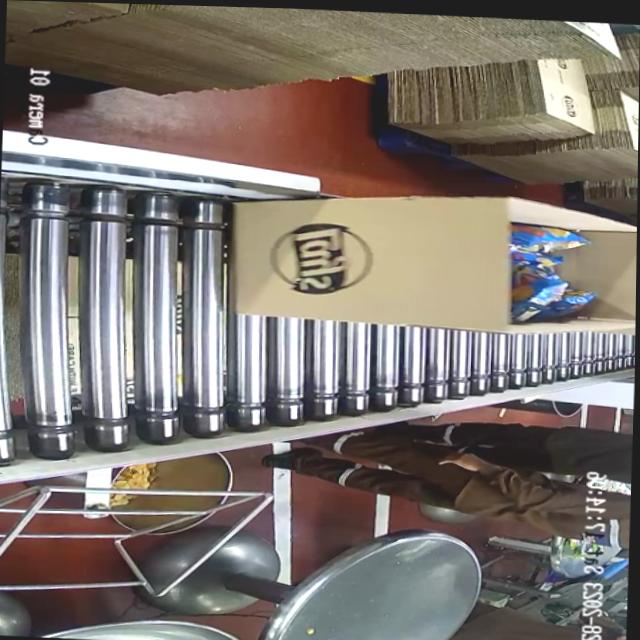PAPRIKA: (507, 218, 596, 320)
